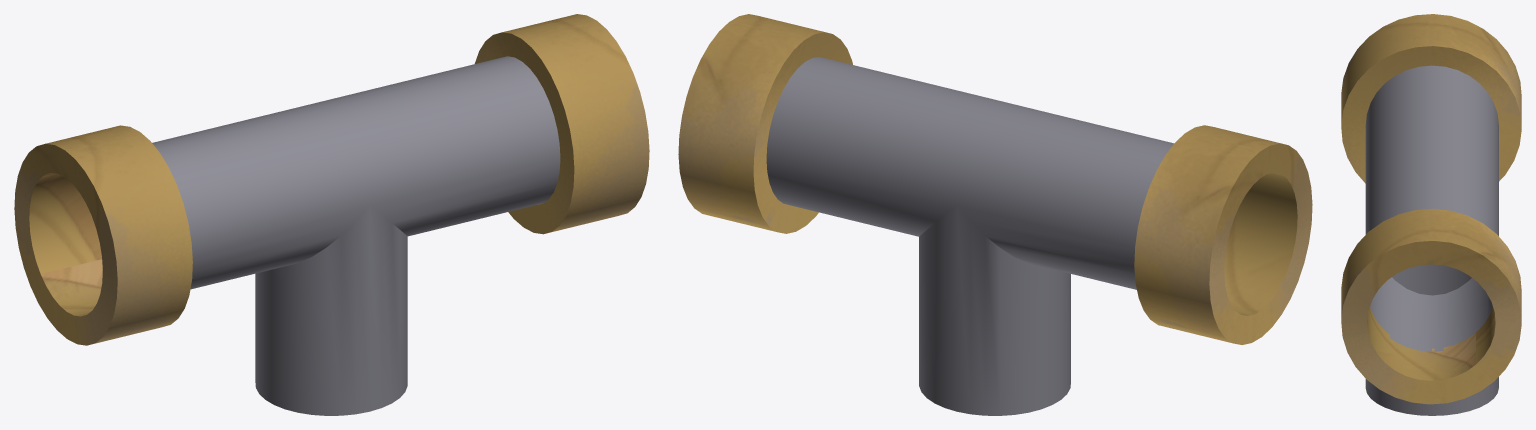
The model's file is Pipe_T.fbx.
3 renders of one model, left to right at view 1: azimuth 30°, elevation 25°; view 2: azimuth 150°, elevation 25°; view 3: azimuth 270°, elevation 25°, orthographic. The views are drawn at different scales.
Parts seen in each view (by area): view 1: Tee Joint.001; view 2: Tee Joint.001; view 3: Tee Joint.001.
Boxes of the visible parts, <box> form: Tee Joint.001: <box>14,14,649,415</box>; Tee Joint.001: <box>678,14,1312,415</box>; Tee Joint.001: <box>1341,14,1521,415</box>.
Bounding box in the file's own units: 100 × 53.78 × 33.8.
